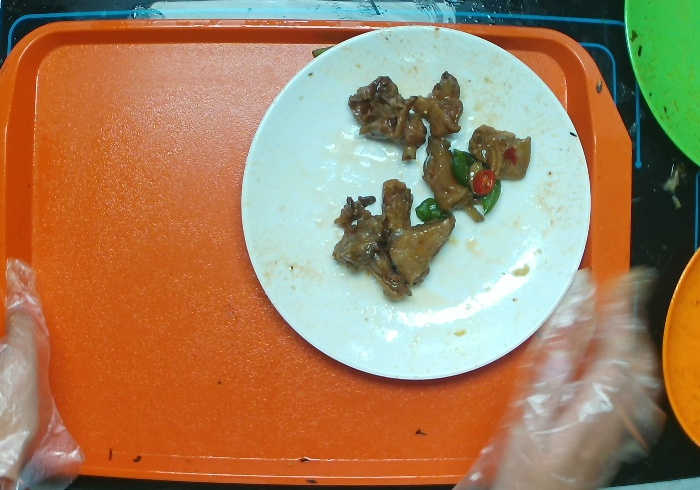HZYJPL-Bai_Se_Yuan_Pan: (225, 19, 598, 395)
